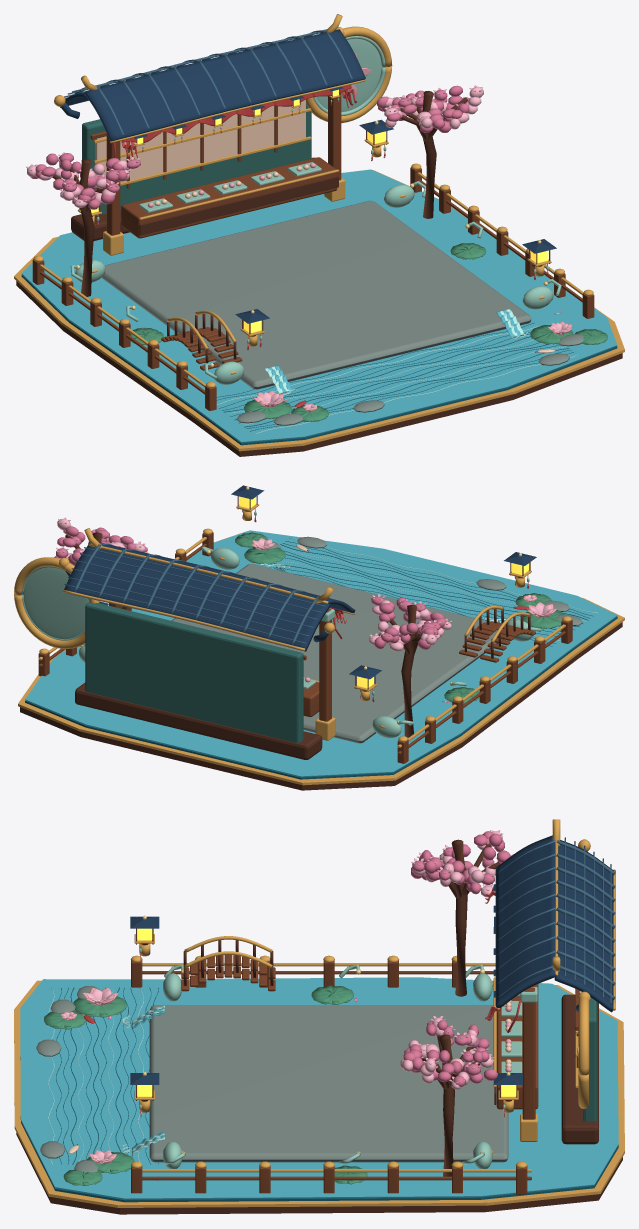
File: environment-nightmarket.glb
3 renders of one model, top to bottom at view 1: azimuth 30°, elevation 25°; view 2: azimuth 150°, elevation 25°; view 3: azimuth 270°, elevation 25°, orthographic. The views are drawn at different scales.
Visible parts, largest first — view 1: environment-nightmarket | merged material | 25 | pond edging, environment-nightmarket | merged material | 18 | turquoise r, environment-nightmarket | merged material | 11 | midnight gl, environment-nightmarket | merged material | 04 | warm aged i, environment-nightmarket | merged material | 02 | sculpted ra, environment-nightmarket | merged material | 01 | dark warm l, environment-nightmarket | merged material | 07 | warmly tran, environment-nightmarket | merged material | 09 | mint celado, environment-nightmarket | merged material | 17 | deep teal s, environment-nightmarket | merged material | 10 | jade inset , environment-nightmarket | merged material | 23 | pastel saku, environment-nightmarket | merged material | 24 | soft ivory  (+6 smaller); view 2: environment-nightmarket | merged material | 18 | turquoise r, environment-nightmarket | merged material | 10 | jade inset , environment-nightmarket | merged material | 25 | pond edging, environment-nightmarket | merged material | 11 | midnight gl, environment-nightmarket | merged material | 04 | warm aged i, environment-nightmarket | merged material | 01 | dark warm l, environment-nightmarket | merged material | 02 | sculpted ra, environment-nightmarket | merged material | 09 | mint celado, environment-nightmarket | merged material | 12 | rich porcel, environment-nightmarket | merged material | 17 | deep teal s, environment-nightmarket | merged material | 23 | pastel saku, environment-nightmarket | merged material | 22 | waxy lotus  (+3 smaller); view 3: environment-nightmarket | merged material | 25 | pond edging, environment-nightmarket | merged material | 18 | turquoise r, environment-nightmarket | merged material | 11 | midnight gl, environment-nightmarket | merged material | 04 | warm aged i, environment-nightmarket | merged material | 01 | dark warm l, environment-nightmarket | merged material | 02 | sculpted ra, environment-nightmarket | merged material | 12 | rich porcel, environment-nightmarket | merged material | 23 | pastel saku, environment-nightmarket | merged material | 17 | deep teal s, environment-nightmarket | merged material | 09 | mint celado, environment-nightmarket | merged material | 22 | waxy lotus , environment-nightmarket | merged material | 24 | soft ivory  (+4 smaller).
Part boxes in pixels (x1,y1,x2,y2): environment-nightmarket | merged material | 25 | pond edging: (101, 200, 583, 425); environment-nightmarket | merged material | 18 | turquoise r: (21, 169, 617, 442); environment-nightmarket | merged material | 11 | midnight gl: (60, 29, 556, 323); environment-nightmarket | merged material | 04 | warm aged i: (14, 14, 624, 451); environment-nightmarket | merged material | 02 | sculpted ra: (32, 87, 594, 410); environment-nightmarket | merged material | 01 | dark warm l: (16, 91, 622, 456); environment-nightmarket | merged material | 07 | warmly tran: (95, 99, 555, 408); environment-nightmarket | merged material | 09 | mint celado: (70, 36, 561, 384); environment-nightmarket | merged material | 17 | deep teal s: (21, 274, 617, 445); environment-nightmarket | merged material | 10 | jade inset : (82, 103, 604, 409); environment-nightmarket | merged material | 23 | pastel saku: (30, 85, 561, 401); environment-nightmarket | merged material | 24 | soft ivory : (26, 85, 570, 411); environment-nightmarket | merged material | 18 | turquoise r: (25, 530, 617, 776); environment-nightmarket | merged material | 10 | jade inset : (85, 536, 522, 743); environment-nightmarket | merged material | 25 | pond edging: (171, 536, 582, 743); environment-nightmarket | merged material | 11 | midnight gl: (64, 485, 536, 679); environment-nightmarket | merged material | 04 | warm aged i: (14, 503, 624, 785); environment-nightmarket | merged material | 01 | dark warm l: (20, 532, 622, 790); environment-nightmarket | merged material | 02 | sculpted ra: (38, 486, 572, 763); environment-nightmarket | merged material | 09 | mint celado: (22, 509, 541, 738); environment-nightmarket | merged material | 12 | rich porcel: (64, 543, 330, 644); environment-nightmarket | merged material | 17 | deep teal s: (25, 541, 617, 779); environment-nightmarket | merged material | 23 | pastel saku: (54, 526, 519, 702); environment-nightmarket | merged material | 22 | waxy lotus : (235, 532, 564, 703); environment-nightmarket | merged material | 25 | pond edging: (36, 986, 508, 1172); environment-nightmarket | merged material | 18 | turquoise r: (20, 977, 618, 1198); environment-nightmarket | merged material | 11 | midnight gl: (130, 835, 613, 1084); environment-nightmarket | merged material | 04 | warm aged i: (14, 819, 624, 1207); environment-nightmarket | merged material | 01 | dark warm l: (16, 839, 622, 1214); environment-nightmarket | merged material | 02 | sculpted ra: (131, 917, 579, 1194); environment-nightmarket | merged material | 12 | rich porcel: (497, 837, 615, 1003); environment-nightmarket | merged material | 23 | pastel saku: (108, 831, 511, 1180); environment-nightmarket | merged material | 17 | deep teal s: (20, 987, 618, 1202); environment-nightmarket | merged material | 09 | mint celado: (139, 948, 537, 1168); environment-nightmarket | merged material | 22 | waxy lotus : (44, 985, 367, 1185); environment-nightmarket | merged material | 24 | soft ivory : (63, 830, 513, 1163).
Bounding box in the file's own units: 8.84 × 3.81 × 9.81.
